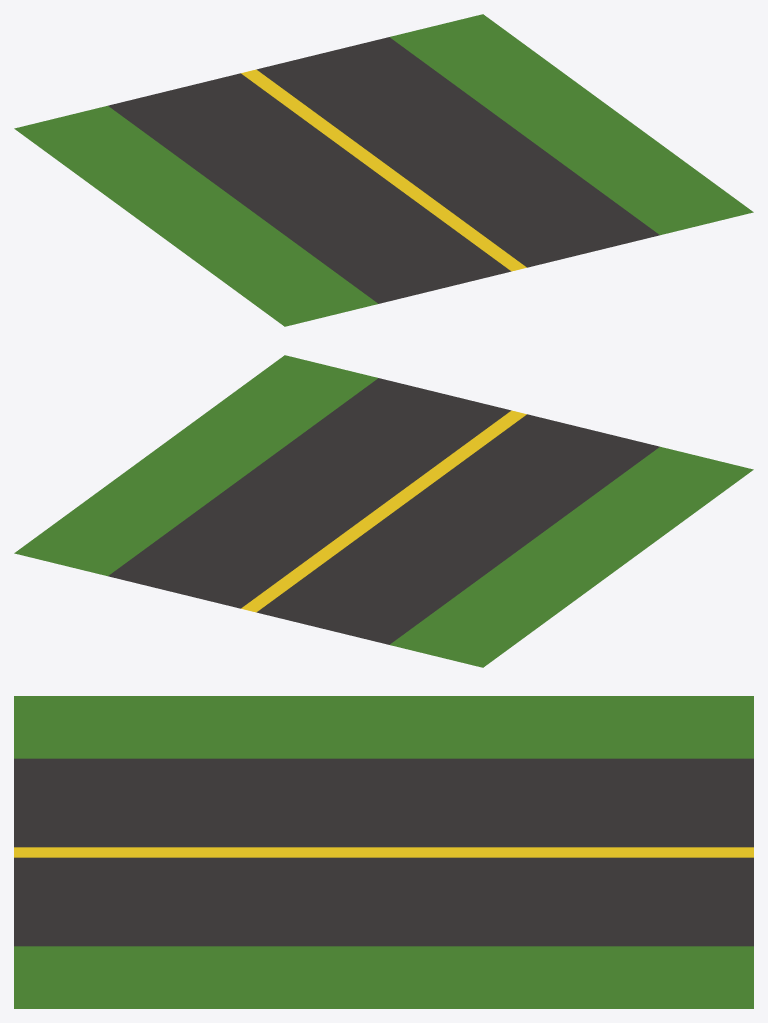
The model's file is tiles-nb_tile-runway-straight-nb.fbx.
3 views of the same model, one above another, from view 1: azimuth 30°, elevation 25°; view 2: azimuth 150°, elevation 25°; view 3: azimuth 270°, elevation 25° (orthographic). The views are drawn at different scales.
Visible parts, largest first — view 1: tiles_nb_tile_runway_straight_nb; view 2: tiles_nb_tile_runway_straight_nb; view 3: tiles_nb_tile_runway_straight_nb.
Part boxes in pixels (<box>): tiles_nb_tile_runway_straight_nb: <box>14,14,753,326</box>; tiles_nb_tile_runway_straight_nb: <box>14,355,753,667</box>; tiles_nb_tile_runway_straight_nb: <box>14,696,753,1008</box>.
Bounding box in the file's own units: 200 × 7.95e-07 × 200.
